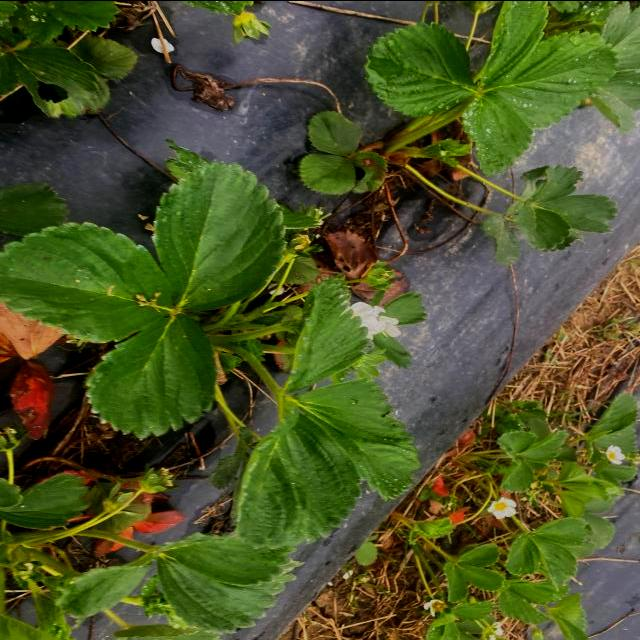flower: (355, 300, 406, 342), (418, 594, 452, 614), (491, 491, 517, 517), (478, 618, 506, 640), (607, 444, 629, 464)
